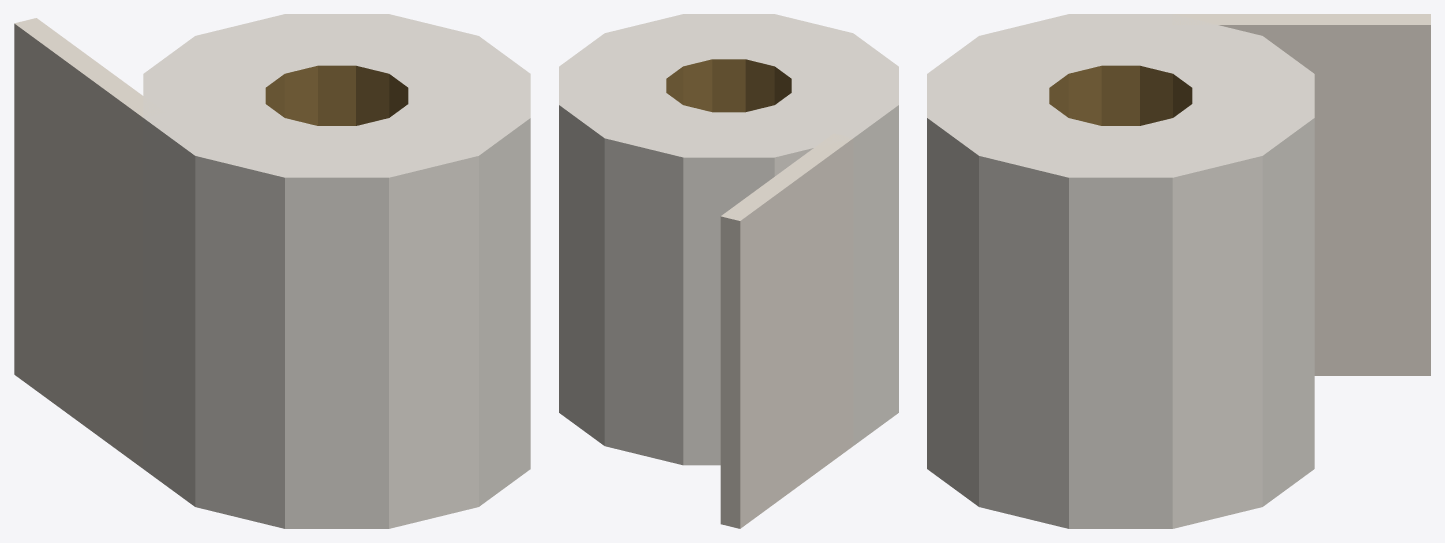
Rendered from toilet paper please.fbx.
The picture shows the model from 3 angles, left to right: view 1: azimuth 30°, elevation 25°; view 2: azimuth 150°, elevation 25°; view 3: azimuth 270°, elevation 25°; orthographic projection. The views are drawn at different scales.
Parts seen in each view (by area): view 1: tube, cube; view 2: tube, cube; view 3: tube, cube.
Part boxes in pixels (bbox=[...]): tube: bbox=[143, 14, 530, 528]; cube: bbox=[14, 18, 163, 468]; tube: bbox=[559, 14, 898, 465]; cube: bbox=[720, 133, 853, 528]; tube: bbox=[927, 14, 1314, 528]; cube: bbox=[1172, 14, 1430, 375].
Bounding box in the file's own units: 18.75 × 18.75 × 24.38.
Materials: 1 (1 with a texture image).
